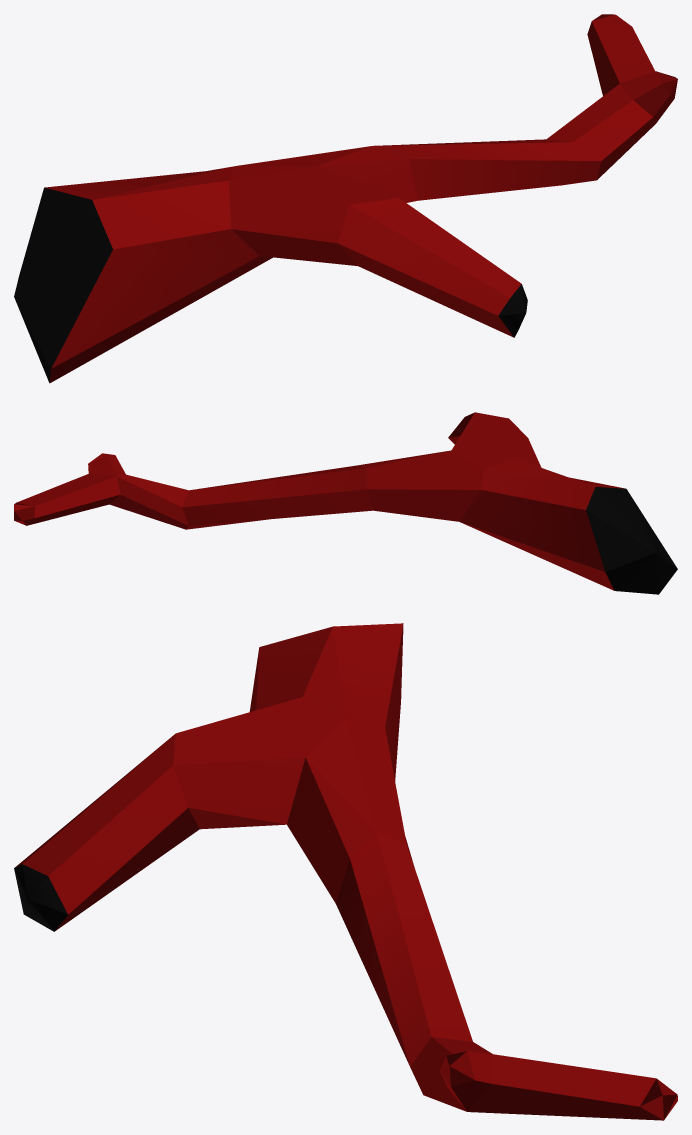
File: SM_Env_DriftWood_04.glb
3 views of the same model, one above another, from view 1: azimuth 30°, elevation 25°; view 2: azimuth 150°, elevation 25°; view 3: azimuth 270°, elevation 25° (orthographic). The views are drawn at different scales.
Visible parts, largest first — view 1: SM_Env_DriftWood_04; view 2: SM_Env_DriftWood_04; view 3: SM_Env_DriftWood_04.
Boxes of the visible parts, x1=… form: SM_Env_DriftWood_04: x1=14, y1=14, x2=677, y2=383; SM_Env_DriftWood_04: x1=14, y1=412, x2=677, y2=594; SM_Env_DriftWood_04: x1=14, y1=623, x2=677, y2=1120.
Bounding box in the file's own units: 1.61 × 0.3073 × 1.06.
